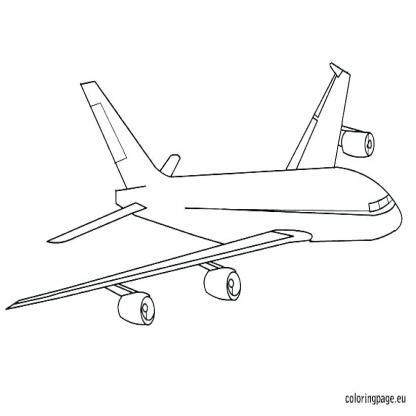CIV_Plane: (5, 53, 403, 330)
